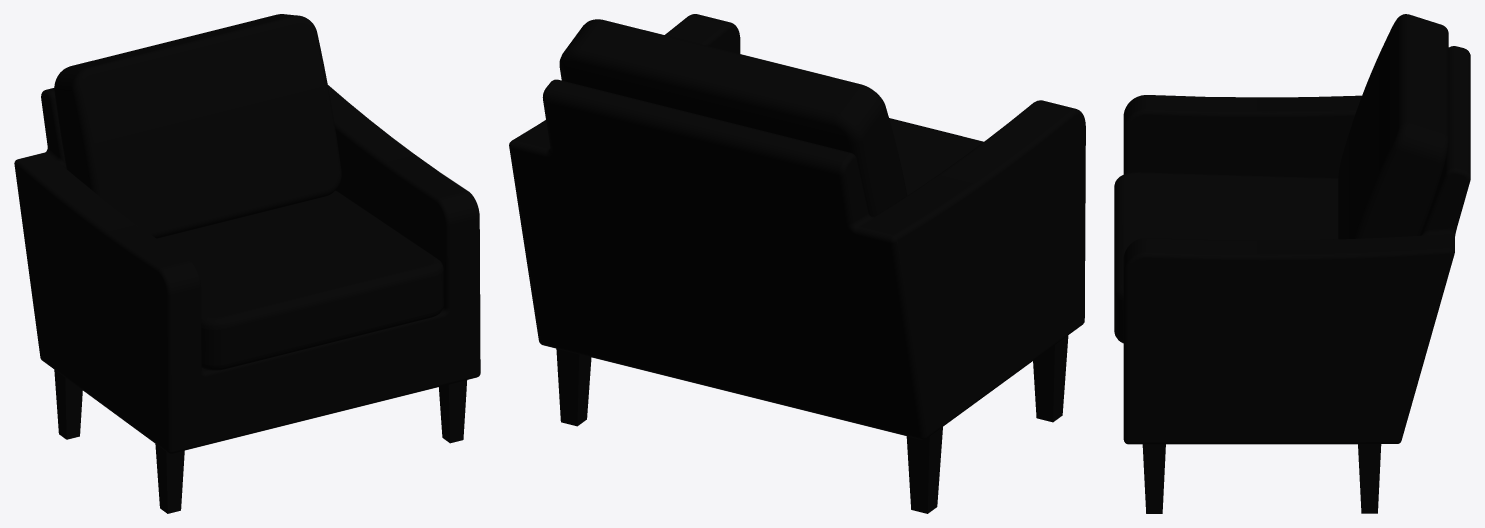
3 views of the same model, side by side, from view 1: azimuth 30°, elevation 25°; view 2: azimuth 150°, elevation 25°; view 3: azimuth 270°, elevation 25° (orthographic). The views are drawn at different scales.
Parts seen in each view (by area): view 1: mesh_id7, mesh_id5, mesh_id8, mesh_id4, mesh_id6; view 2: mesh_id5, mesh_id7, mesh_id4, mesh_id8, mesh_id6; view 3: mesh_id5, mesh_id7, mesh_id6.
Part boxes in pixels (box(x1,y1,x2,y2)): mesh_id7: box(54, 14, 443, 370); mesh_id5: box(14, 85, 480, 453); mesh_id8: box(155, 444, 184, 513); mesh_id4: box(54, 369, 82, 439); mesh_id6: box(439, 380, 467, 443); mesh_id5: box(509, 14, 1085, 439); mesh_id7: box(559, 19, 983, 216); mesh_id4: box(906, 427, 942, 513); mesh_id8: box(1033, 335, 1068, 422); mesh_id6: box(556, 348, 591, 426); mesh_id5: box(1123, 46, 1470, 444); mesh_id7: box(1114, 14, 1448, 343); mesh_id6: box(1142, 444, 1381, 513).
Bounding box in the file's own units: 0.5136 × 0.5424 × 0.4744.
5 materials, 5 textured.
